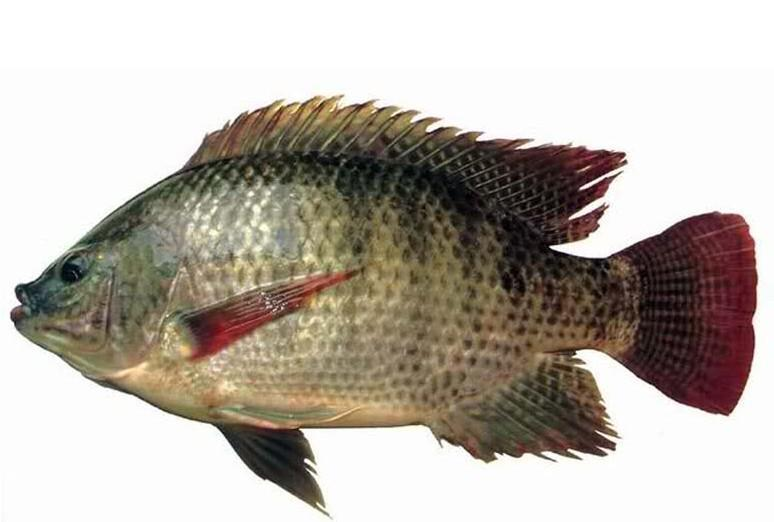Tilapia: (13, 90, 759, 519)
